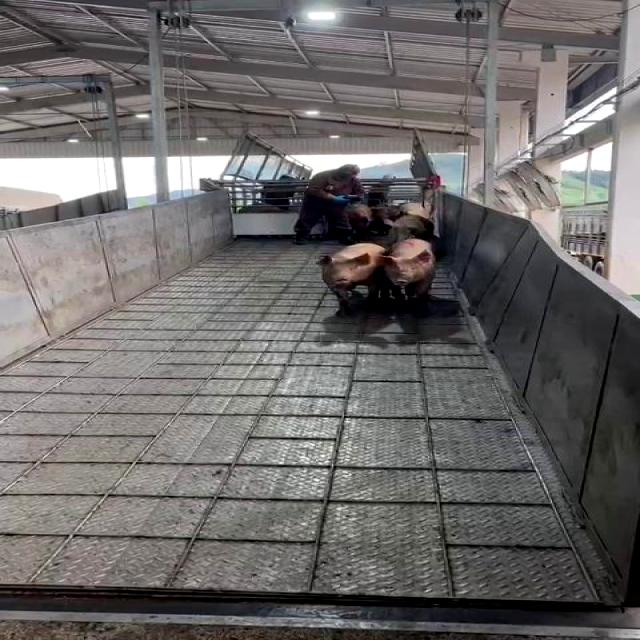pig: (319, 244, 387, 314), (385, 239, 435, 316)
